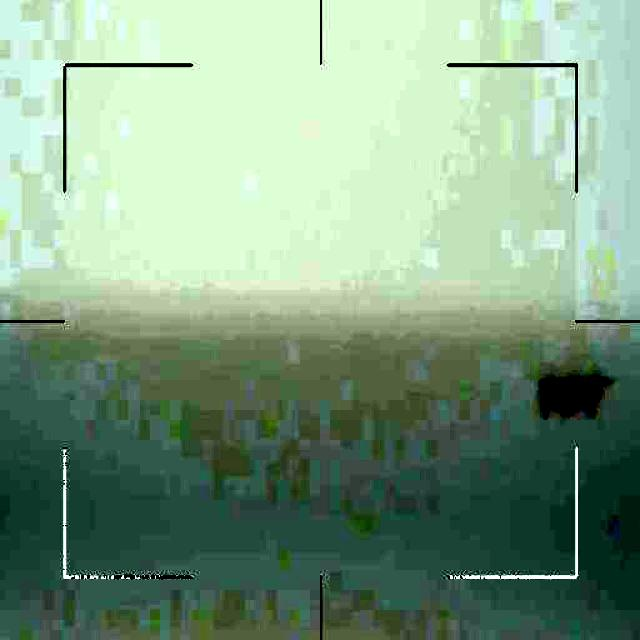bird: (536, 370, 600, 416)
